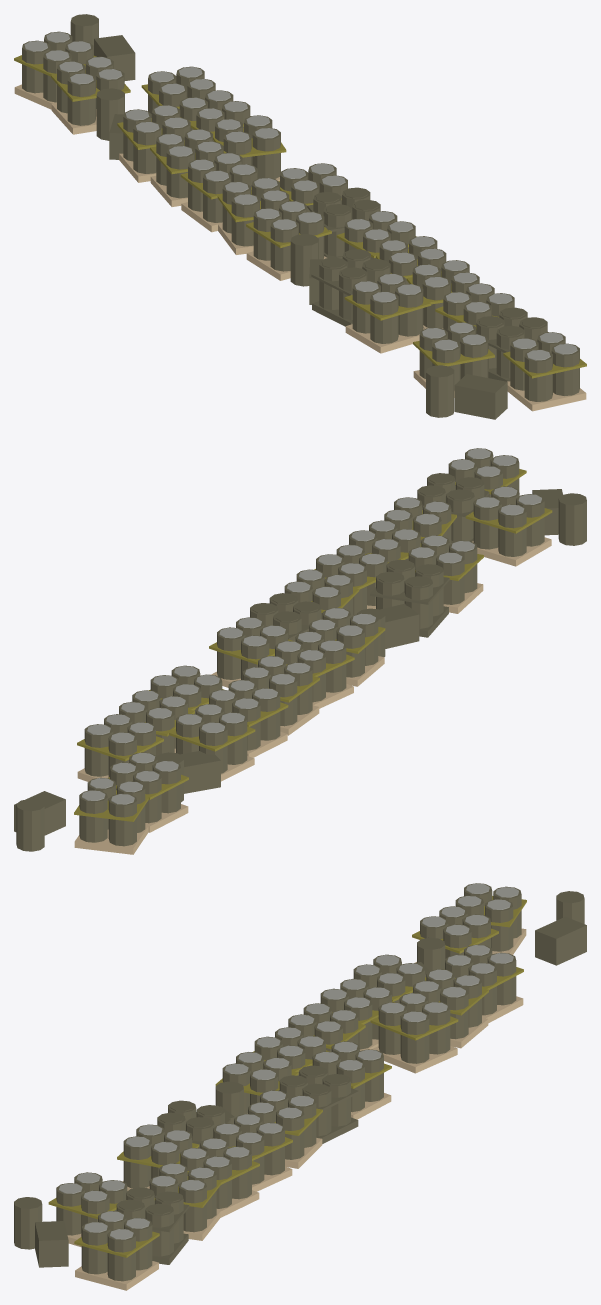
The model's file is SM_CargaCombustible_Danado_LOD0.fbx.
The picture shows the model from 3 angles, top to bottom: view 1: azimuth 30°, elevation 25°; view 2: azimuth 150°, elevation 25°; view 3: azimuth 330°, elevation 25°; orthographic projection.
Visible parts, largest first — view 1: SM_carga_vagon_v8_LOD0; view 2: SM_carga_vagon_v8_LOD0; view 3: SM_carga_vagon_v8_LOD0.
Boxes of the visible parts, x1,y1,x2,y2 form: SM_carga_vagon_v8_LOD0: [14, 14, 586, 419]; SM_carga_vagon_v8_LOD0: [14, 448, 586, 854]; SM_carga_vagon_v8_LOD0: [14, 883, 586, 1290].
Size of the model in its own units: 3.21 by 1.04 by 18.89.
